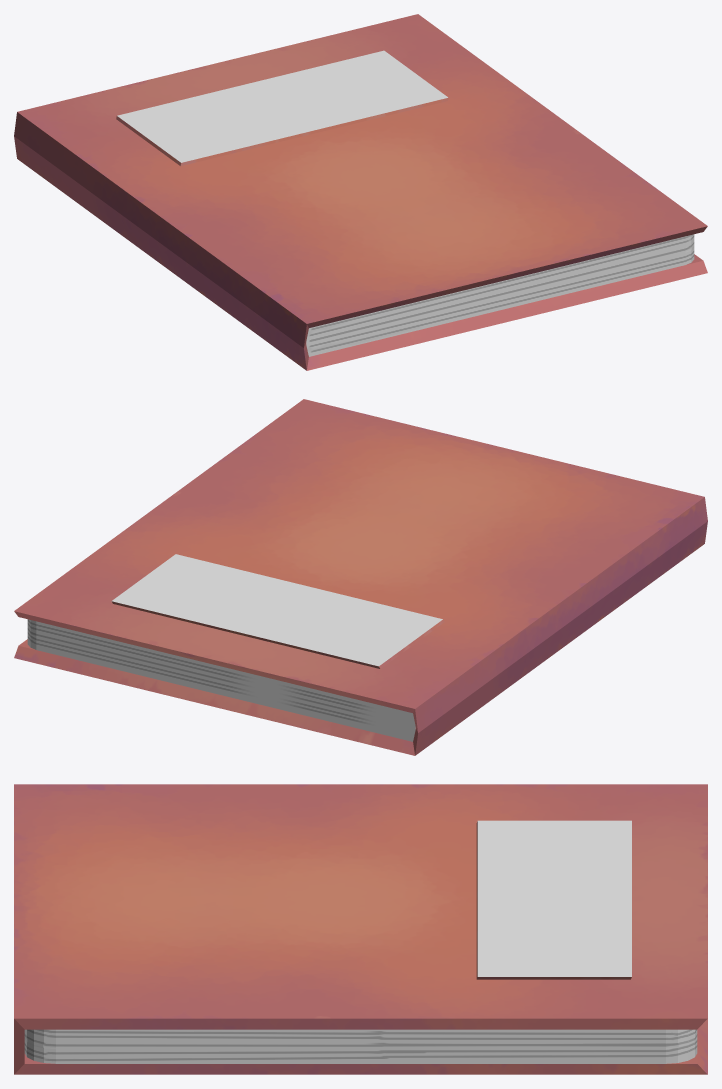
The model's file is Light_Book.fbx.
3 views of the same model, one above another, from view 1: azimuth 30°, elevation 25°; view 2: azimuth 150°, elevation 25°; view 3: azimuth 270°, elevation 25° (orthographic). The views are drawn at different scales.
Parts seen in each view (by area): view 1: book, book inside; view 2: book, book inside; view 3: book, book inside.
Part boxes in pixels (x1,y1,x2,y2): book: (14,14,707,370); book inside: (306,234,694,356); book: (14,399,707,755); book inside: (27,619,415,741); book: (14,784,707,1074); book inside: (24,1029,697,1063).
Bounding box in the file's own units: 106 × 12.39 × 131.
3 materials, 2 textured.
